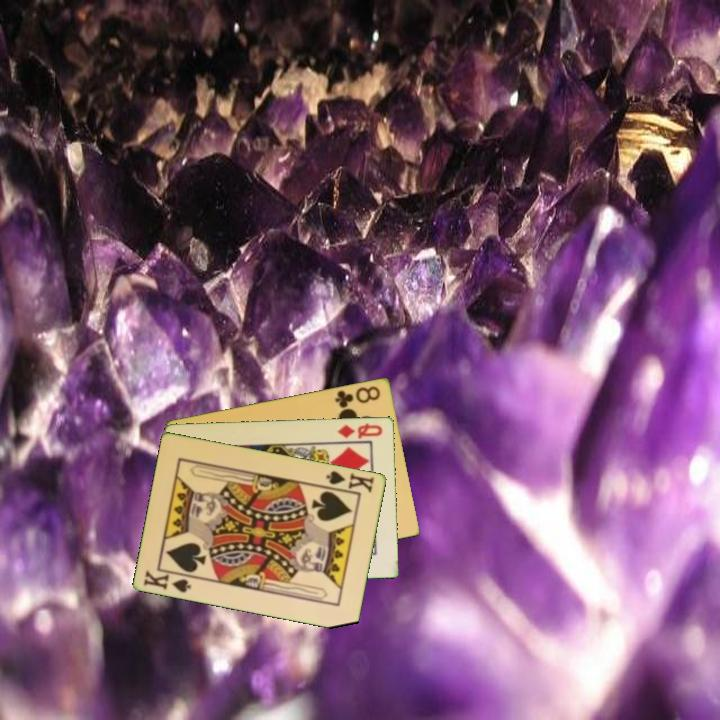8c: (332, 382, 383, 410)
Ks: (141, 566, 198, 595), (321, 467, 377, 496)
Qd: (334, 419, 385, 442)
